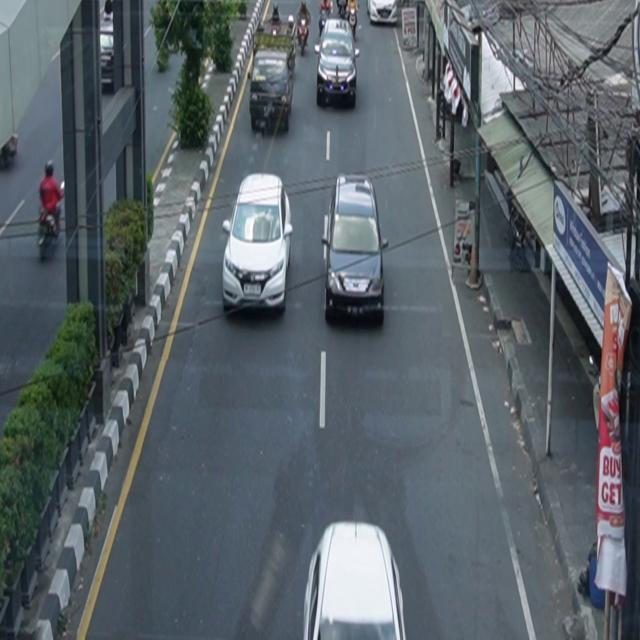car: (303, 522, 408, 640), (222, 173, 294, 316), (323, 174, 390, 325), (315, 24, 361, 109), (250, 51, 295, 135), (368, 1, 399, 26)
